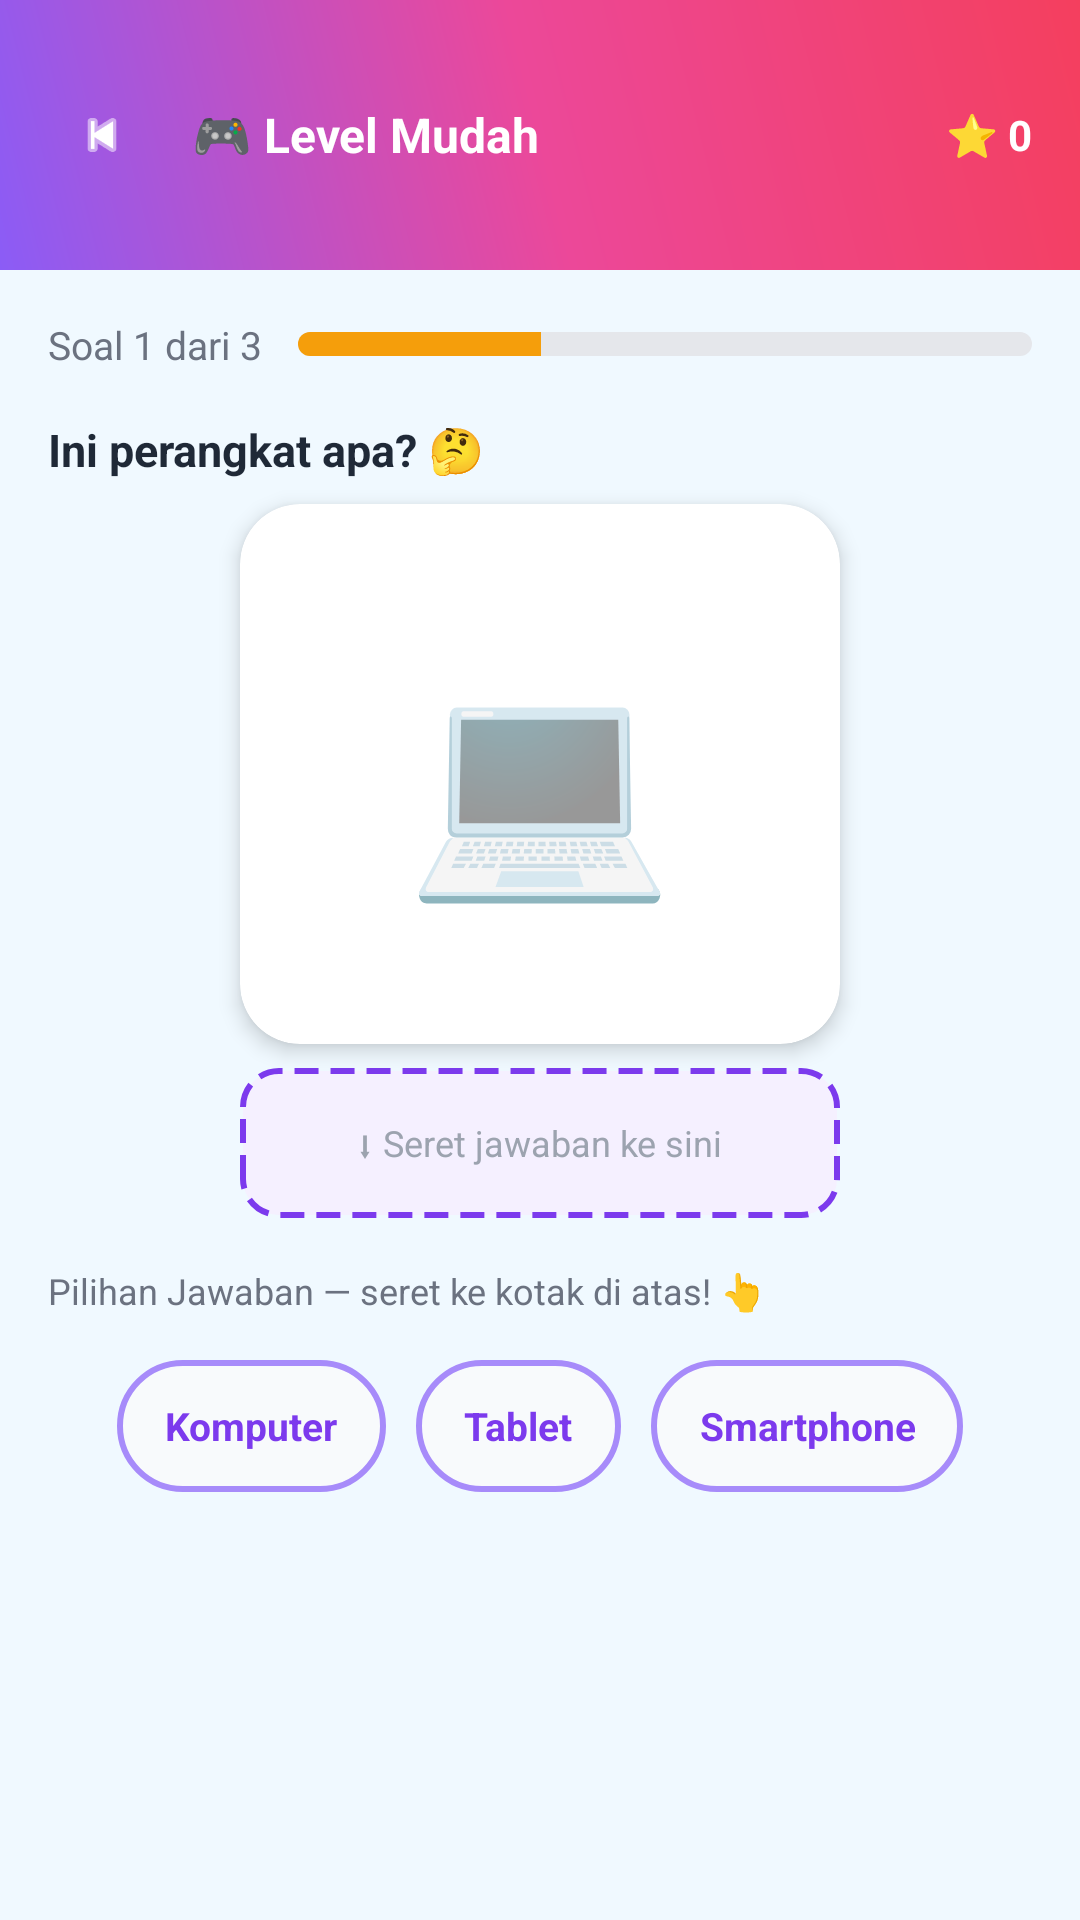

Where icons sit on this 1080x1920 app screen, as {"x1": x1, "y1": y1, "x2": x2, "y2": y2}:
previous: {"x1": 87, "y1": 118, "x2": 116, "y2": 152}
